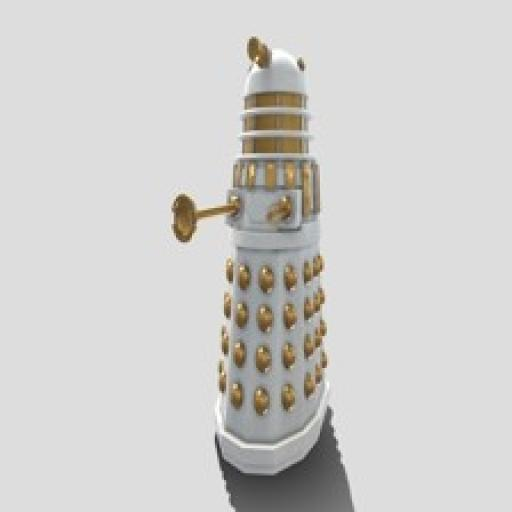dalek: (165, 33, 334, 476)
